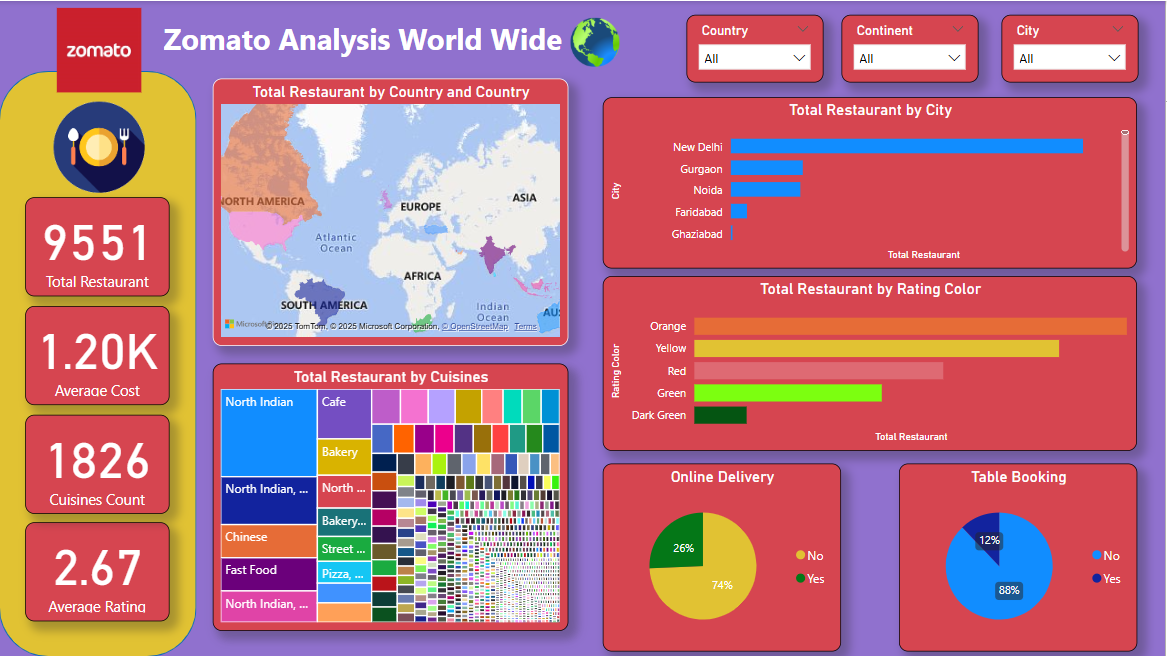

Layout of this report page (visuals, bound fields, positions):
{"tool":"powerbi","page":{"name":"Page 1","canvas":[1280,720],"ordinal":0},"visuals":[{"type":"shape","box":[0,77.1,217.1,642.9],"z":0},{"type":"card","fields":{"Values":["Zomato Global.Restaurant Count"]},"box":[28.6,215.7,158.6,108.6],"z":1000},{"type":"card","fields":{"Values":["Fact Table.Average Cost"]},"box":[28.6,334.3,158.6,108.6],"z":2000},{"type":"card","fields":{"Values":["Fact Table.Average Rating"]},"box":[28.6,572.9,158.6,108.6],"z":3000},{"type":"card","fields":{"Values":["Cuisines.Cuisines Count"]},"box":[28.6,454.3,158.6,108.6],"z":4000},{"type":"filledMap","fields":{"Category":["Country-Code.Country"],"Series":["Country-Code.Country"]},"box":[235,85,390,293.3],"z":5000},{"type":"treemap","fields":{"Values":["Zomato Global.Total Restaurant"],"Group":["Zomato Global.Cuisines"]},"box":[235,398.3,390,293.3],"z":6000},{"type":"slicer","fields":{"Values":["Country-Code.Country"]},"box":[754.3,15.7,150,74.3],"z":7000},{"type":"slicer","fields":{"Values":["Country-Code.Continent"]},"box":[924.3,15.7,150,74.3],"z":8000},{"type":"slicer","fields":{"Values":["Zomato Global.City"]},"box":[1100,15.7,150,74.3],"z":9000},{"type":"textbox","box":[175.6,15.1,448.7,61.7],"z":10000},{"type":"image","box":[55.7,2.9,107.1,102.9],"z":11000},{"type":"image","box":[44.3,105.7,131.4,110],"z":12000},{"type":"clusteredBarChart","fields":{"Y":["Zomato Global.Total Restaurant"],"Category":["Zomato Global.City"]},"box":[663.3,105,586.7,188.3],"z":13000},{"type":"clusteredBarChart","fields":{"Y":["Zomato Global.Total Restaurant"],"Category":["Fact Table.Rating Color"]},"box":[663.3,301.7,586.7,191.7],"z":14000},{"type":"pieChart","title":"Online Delivery","fields":{"Category":["Fact Table.Has Online delivery"],"Y":["Zomato Global.Total Restaurant"]},"box":[663.3,508.3,261.7,206.7],"z":15000},{"type":"pieChart","title":"Table Booking","fields":{"Category":["Fact Table.Has Table booking"],"Y":["Zomato Global.Total Restaurant"]},"box":[988.3,508.3,261.7,206.7],"z":16000},{"type":"image","box":[620.2,13.7,68.6,63.1],"z":16001}]}

Visuals, with their boxes in screenshot pixels (x1, y1, x2, y2), scaled from the page's 1280x720 canvas onto the 1167x656 screenshot:
shape: detection(0, 70, 198, 655)
card - Zomato Global.Restaurant Count: detection(26, 197, 171, 295)
card - Fact Table.Average Cost: detection(26, 305, 171, 404)
card - Fact Table.Average Rating: detection(26, 522, 171, 621)
card - Cuisines.Cuisines Count: detection(26, 414, 171, 513)
filledMap - Country-Code.Country x Country-Code.Country: detection(214, 77, 570, 345)
treemap - Zomato Global.Total Restaurant x Zomato Global.Cuisines: detection(214, 363, 570, 630)
slicer - Country-Code.Country: detection(688, 14, 824, 82)
slicer - Country-Code.Continent: detection(843, 14, 979, 82)
slicer - Zomato Global.City: detection(1003, 14, 1140, 82)
textbox: detection(160, 14, 569, 70)
image: detection(51, 3, 148, 96)
image: detection(40, 96, 160, 197)
clusteredBarChart - Zomato Global.Total Restaurant x Zomato Global.City: detection(605, 96, 1140, 267)
clusteredBarChart - Zomato Global.Total Restaurant x Fact Table.Rating Color: detection(605, 275, 1140, 450)
"Online Delivery" pieChart: detection(605, 463, 843, 651)
"Table Booking" pieChart: detection(901, 463, 1140, 651)
image: detection(565, 12, 628, 70)
